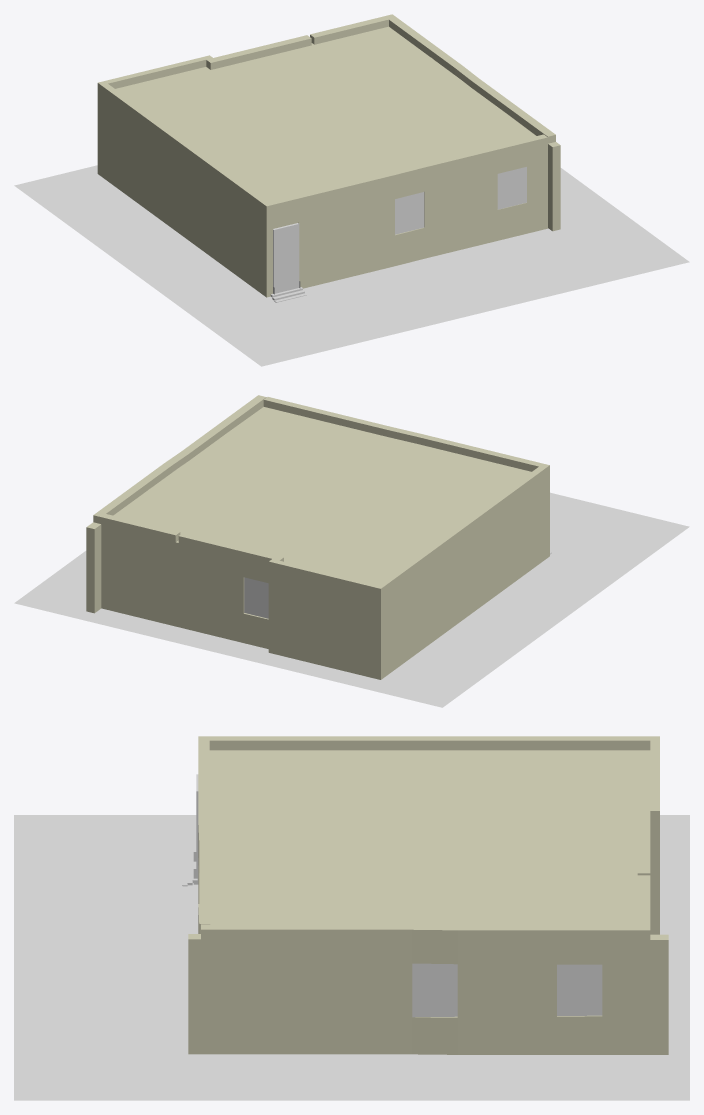
The model's file is House 2 blender gga.fbx.
The picture shows the model from 3 angles, top to bottom: view 1: azimuth 30°, elevation 25°; view 2: azimuth 150°, elevation 25°; view 3: azimuth 270°, elevation 25°; orthographic projection. The views are drawn at different scales.
Visible parts, largest first — view 1: Cube, Plane, CTRL_Hole, CTRL_Hole.008, CTRL_Hole.007; view 2: Cube, Plane, CTRL_Hole.006; view 3: Cube, Plane, CTRL_Hole.009, CTRL_Hole.010.
Part boxes in pixels (x1,y1,x2,y2): Cube: (97, 14, 560, 297); Plane: (14, 165, 689, 366); CTRL_Hole: (273, 223, 299, 293); CTRL_Hole.008: (497, 167, 526, 209); CTRL_Hole.007: (395, 192, 424, 234); Cube: (86, 395, 549, 679); Plane: (14, 492, 689, 707); CTRL_Hole.006: (244, 577, 268, 618); Cube: (188, 736, 668, 1054); Plane: (14, 815, 689, 1100); CTRL_Hole.009: (412, 963, 457, 1017); CTRL_Hole.010: (557, 964, 602, 1015).
Bounding box in the file's own units: 5019 × 1058 × 5019.
